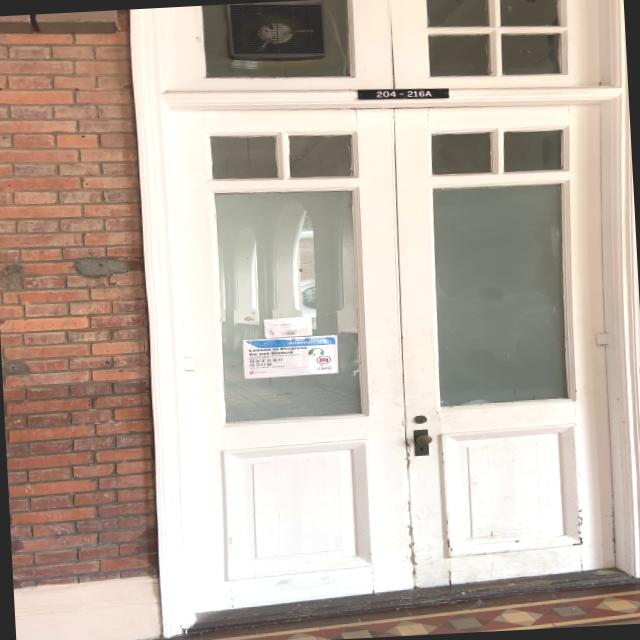room204: (350, 78, 456, 107)
